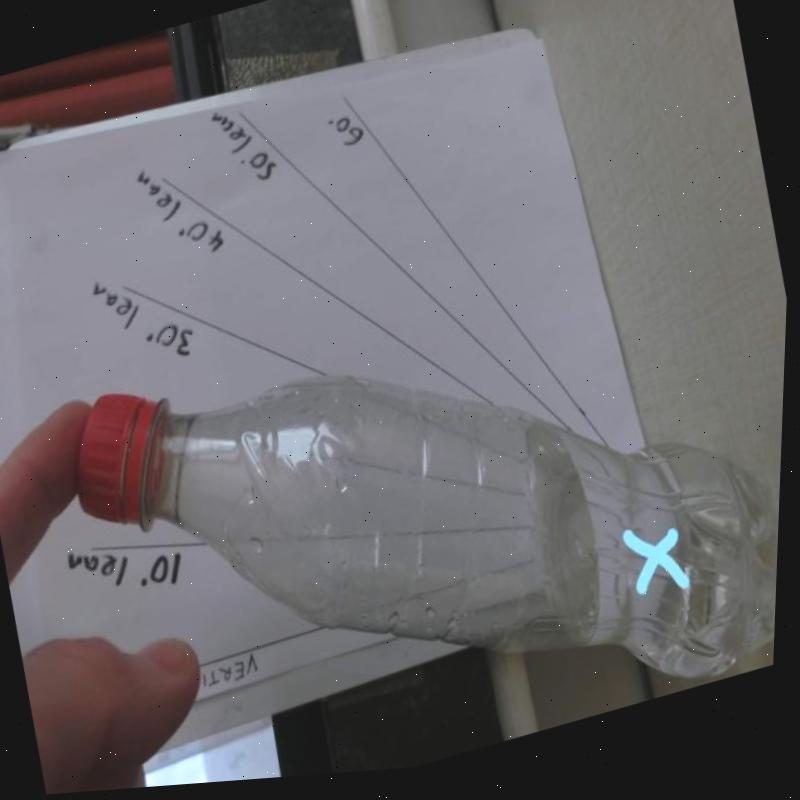botella: (54, 223, 792, 796)
